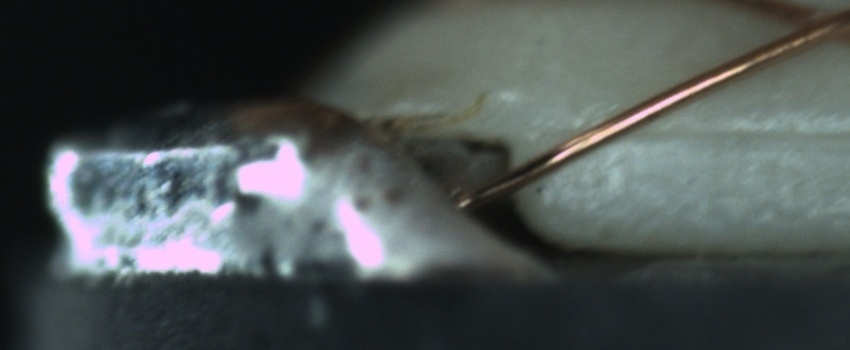CL: (765, 2, 846, 55)
DL: (560, 98, 850, 165)
